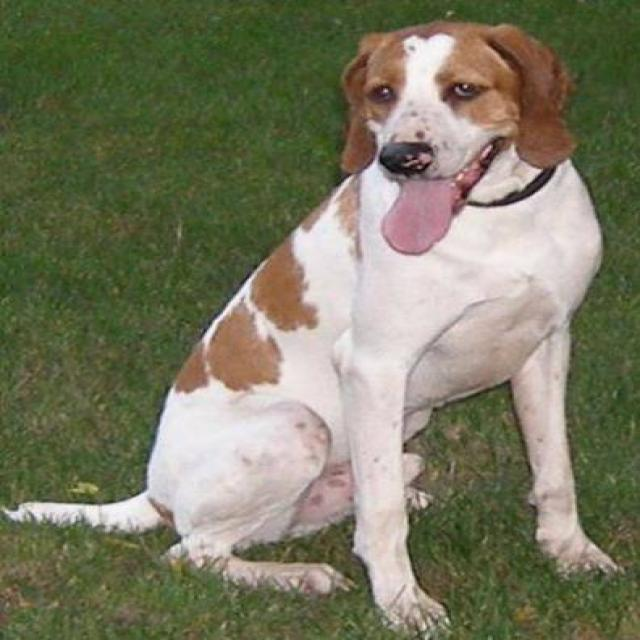happy: (294, 0, 614, 284)
